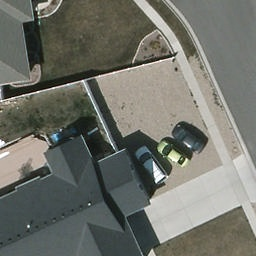car: (134, 145, 169, 187), (173, 126, 205, 157), (157, 140, 188, 167)
